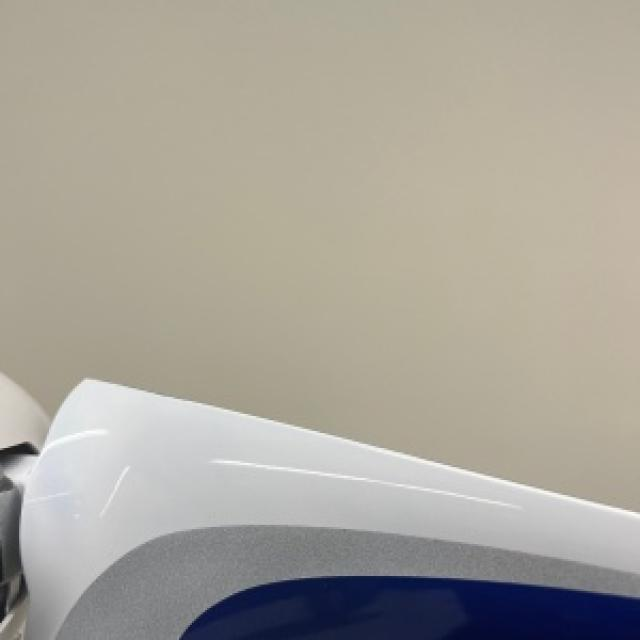healthy: (0, 375, 638, 638)
